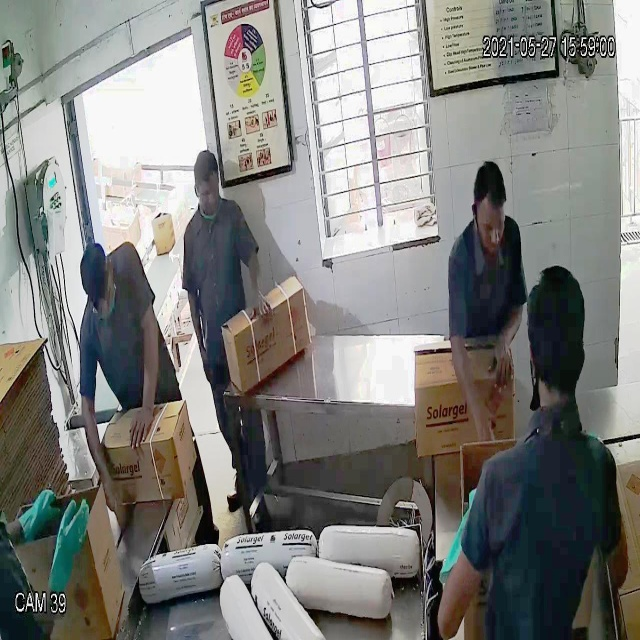Sin_gafas: (469, 206, 517, 244)
